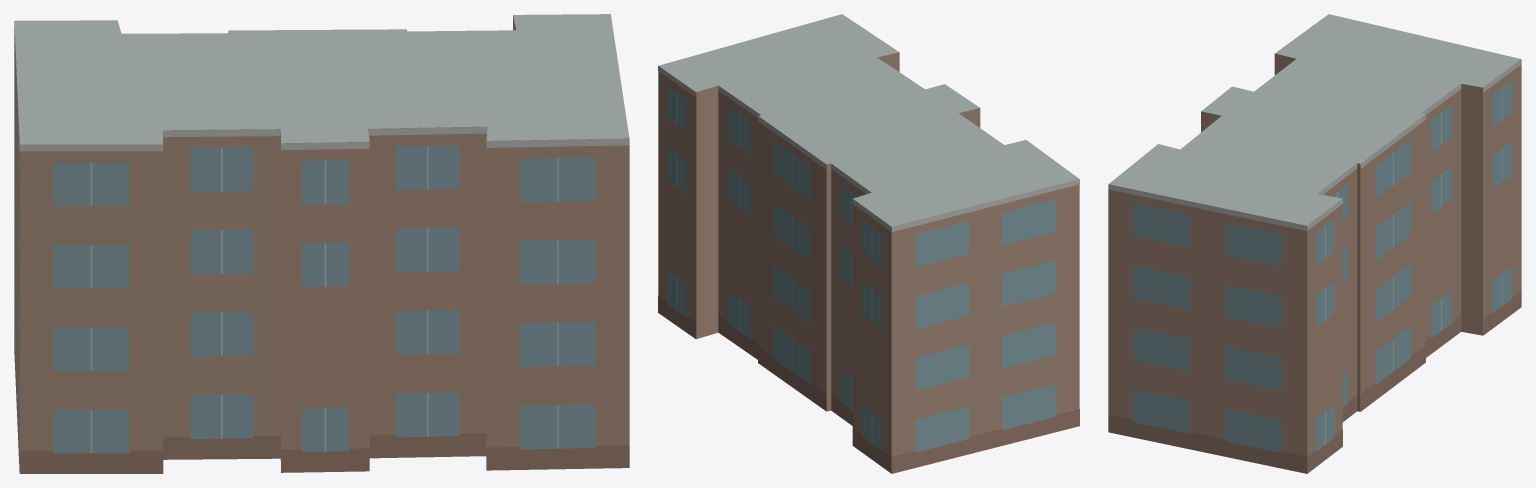
Rendered from survey-upis-32680502.glb.
3 renders of one model, left to right at view 1: azimuth 30°, elevation 25°; view 2: azimuth 150°, elevation 25°; view 3: azimuth 270°, elevation 25°, orthographic. The views are drawn at different scales.
Visible parts, largest first — view 1: survey-upis-32680502.tmp; view 2: survey-upis-32680502.tmp; view 3: survey-upis-32680502.tmp.
Boxes of the visible parts, <box> form: survey-upis-32680502.tmp: <box>14,14,629,473</box>; survey-upis-32680502.tmp: <box>658,14,1079,473</box>; survey-upis-32680502.tmp: <box>1108,14,1521,473</box>.
Size of the model in its own units: 21.07 by 11.5 by 17.37.
